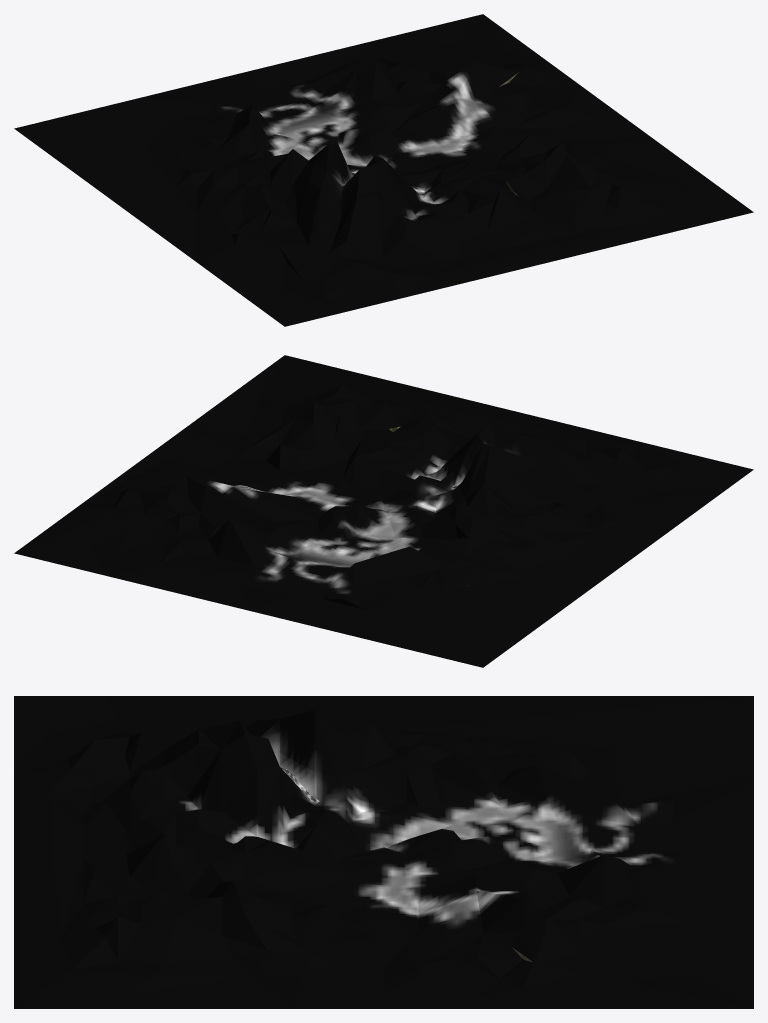
Rendered from F_Island_08.fbx.
The picture shows the model from 3 angles, top to bottom: view 1: azimuth 30°, elevation 25°; view 2: azimuth 150°, elevation 25°; view 3: azimuth 270°, elevation 25°; orthographic projection. The views are drawn at different scales.
Visible parts, largest first — view 1: FX_Island; view 2: FX_Island; view 3: FX_Island.
Boxes of the visible parts, <box> form: FX_Island: <box>14,14,753,326</box>; FX_Island: <box>14,355,753,667</box>; FX_Island: <box>14,696,753,1008</box>.
Size of the model in its own units: 14 by 1.94 by 14.
3 materials, 3 textured.
